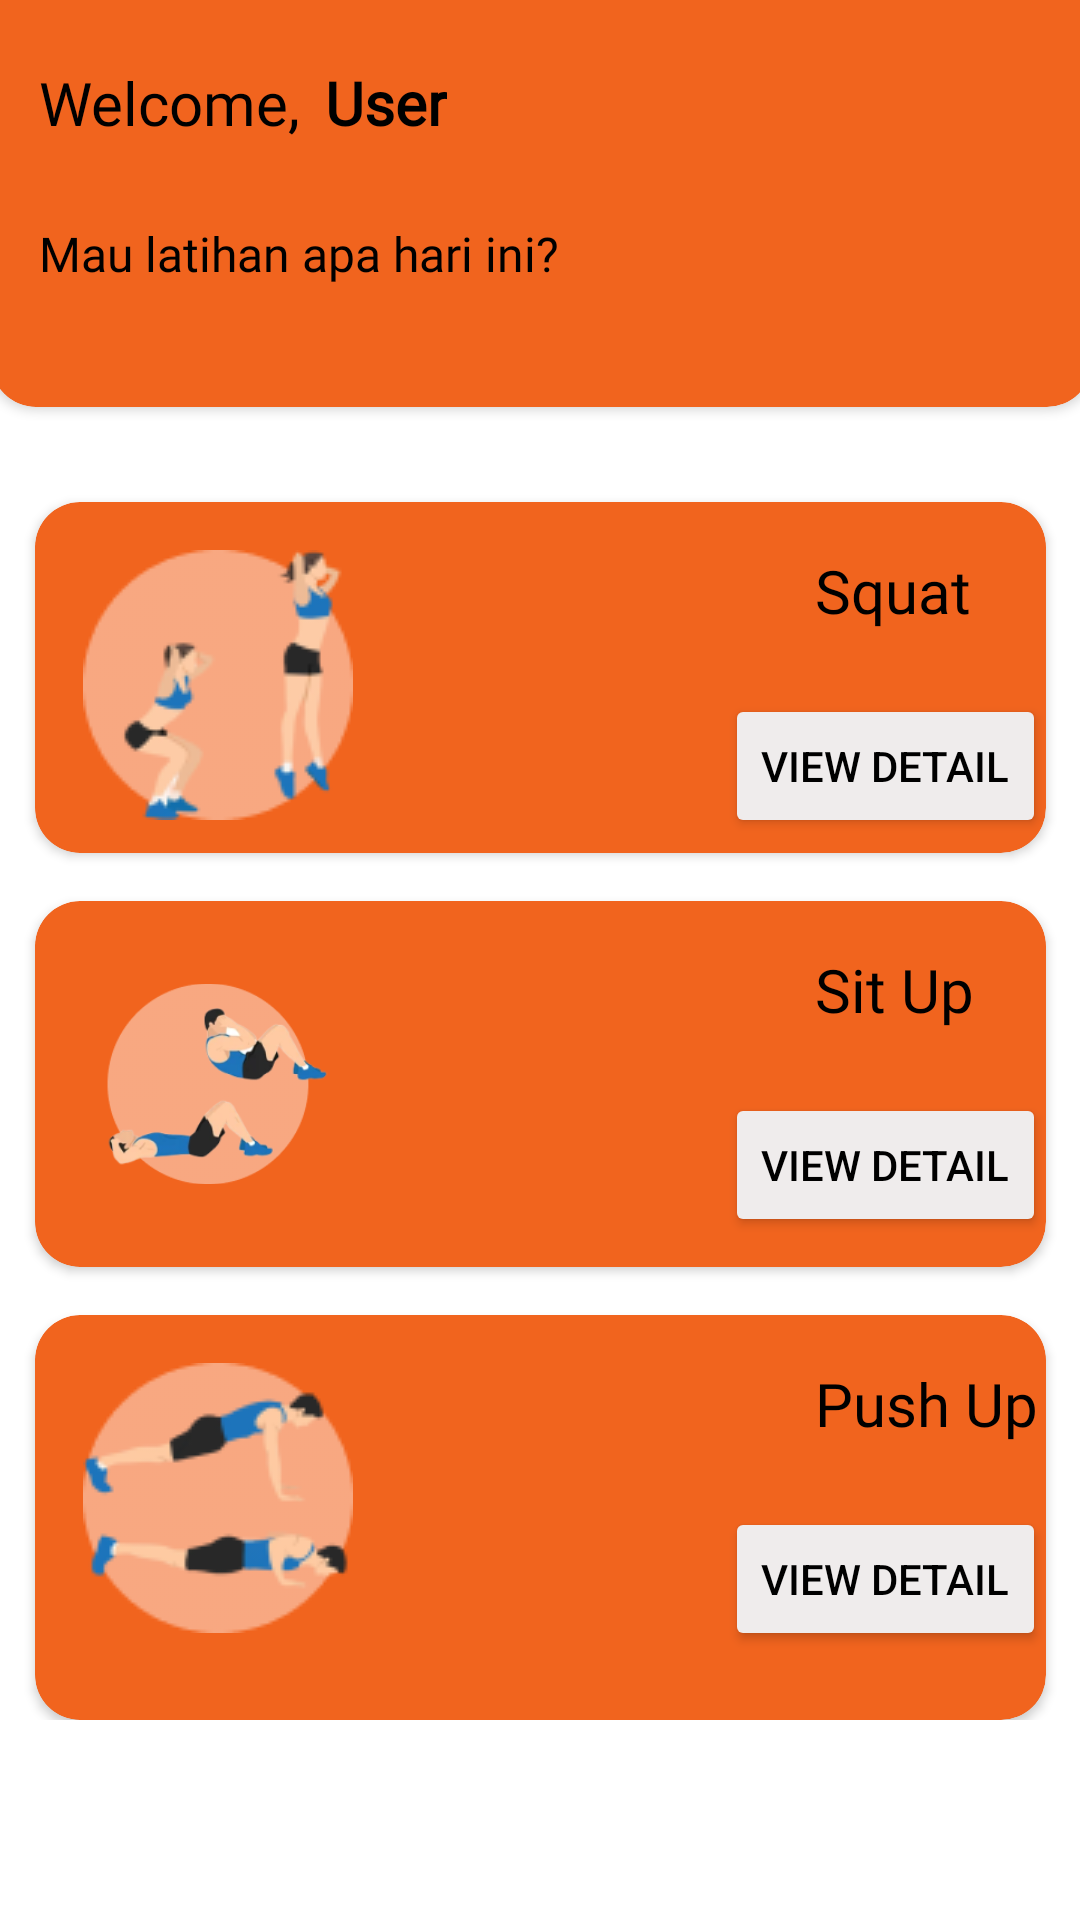

Icons on this 1080 x 1920 Android screen, each with its box as [left=x1, top=y1, right=x2, bottom=y2]:
pushup: [left=83, top=1363, right=353, bottom=1633]
situp: [left=107, top=984, right=327, bottom=1184]
squat: [left=83, top=550, right=353, bottom=820]
